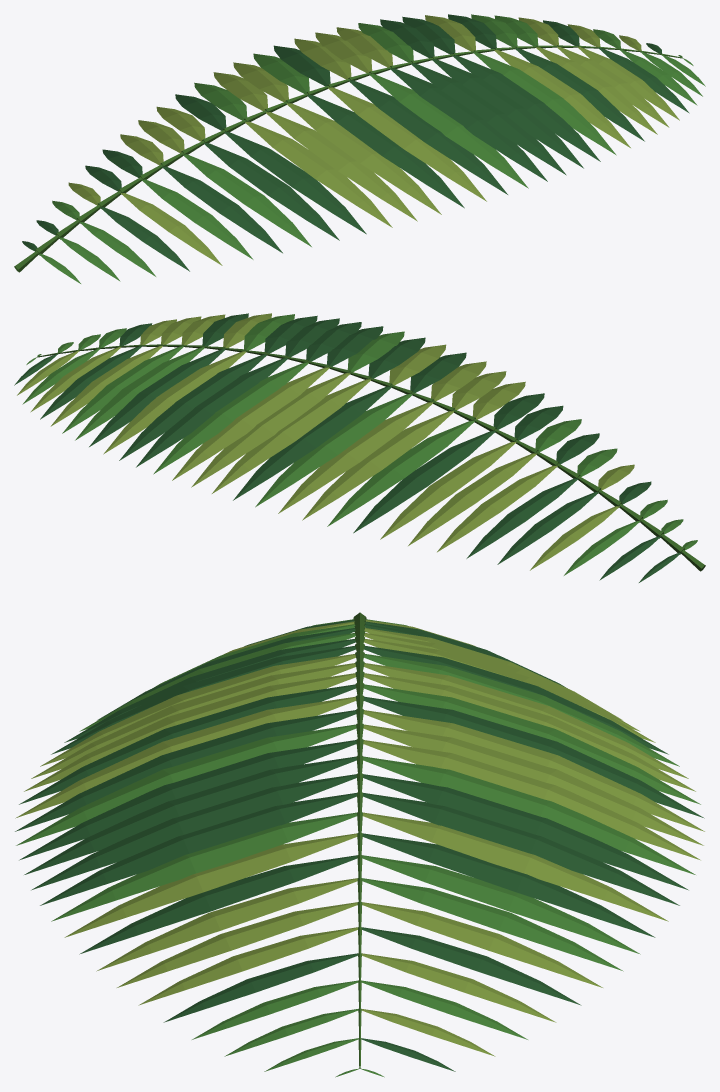
Rendered from palm_frond_module.glb.
3 renders of one model, top to bottom at view 1: azimuth 30°, elevation 25°; view 2: azimuth 150°, elevation 25°; view 3: azimuth 270°, elevation 25°, orthographic. The views are drawn at different scales.
Parts seen in each view (by area): view 1: palm_frond_module; view 2: palm_frond_module; view 3: palm_frond_module.
Part boxes in pixels (x1,y1,x2,y2): palm_frond_module: (14, 14, 705, 283); palm_frond_module: (14, 313, 705, 582); palm_frond_module: (15, 612, 704, 1077).
Bounding box in the file's own units: 2.52 × 0.4121 × 1.39.
